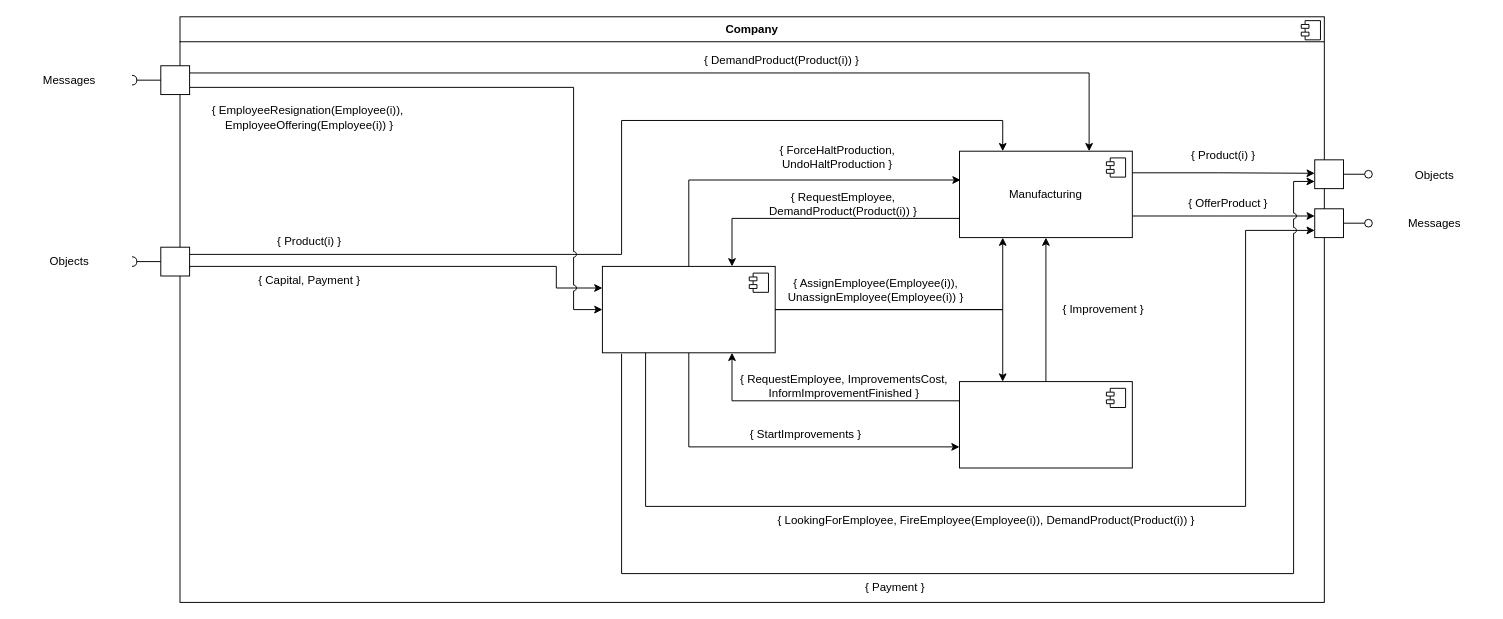
The diagram is 1503 pixels wide and 619 high, and some of its shapes have lost their labels. The centre of each missing label's shape, as x and y in pixels:
Administration: point 688,309
R&D: point 1045,424
